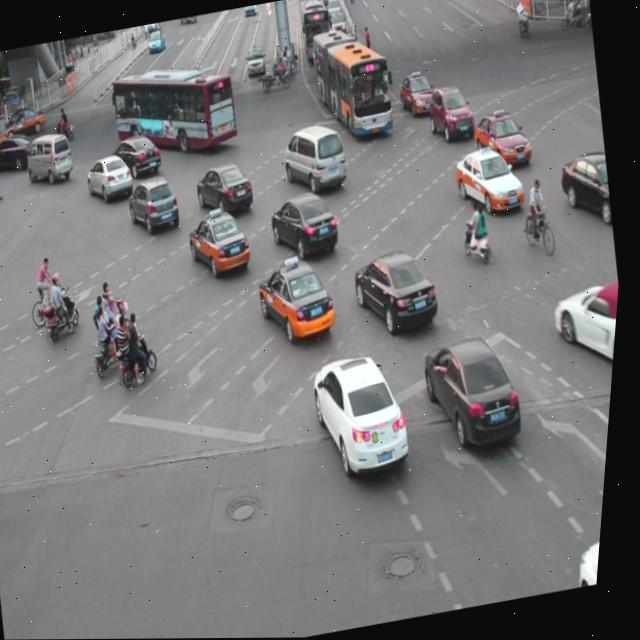car: (309, 347, 423, 479), (419, 327, 535, 452), (350, 242, 448, 338), (255, 253, 344, 343), (549, 279, 624, 378), (451, 140, 530, 220), (267, 186, 346, 263), (185, 204, 258, 278), (555, 148, 619, 230), (469, 105, 537, 176), (194, 157, 260, 220), (126, 172, 186, 236), (426, 80, 479, 143), (85, 151, 140, 203), (111, 132, 167, 180), (395, 69, 438, 117), (578, 527, 609, 588)
truck: (278, 118, 353, 196), (24, 129, 80, 185)
van: (107, 59, 244, 162), (305, 22, 401, 142)
